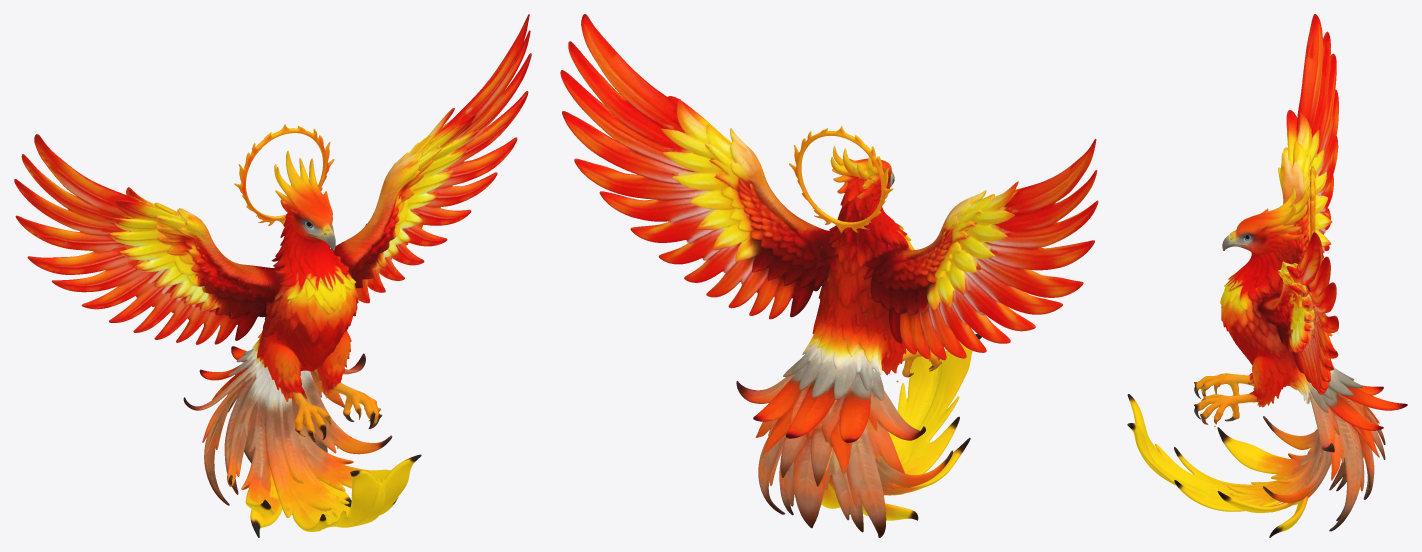
File: astral_phoenix_web.glb
3 views of the same model, side by side, from view 1: azimuth 30°, elevation 25°; view 2: azimuth 150°, elevation 25°; view 3: azimuth 270°, elevation 25° (orthographic). The views are drawn at different scales.
Visible parts, largest first — view 1: Object_5; view 2: Object_5; view 3: Object_5.
Part boxes in pixels (x1,y1,x2,y2): Object_5: (14, 14, 531, 537); Object_5: (560, 14, 1098, 537); Object_5: (1127, 14, 1407, 537).
Bounding box in the file's own units: 1.9 × 1.52 × 0.981.
1 material, 1 textured.
